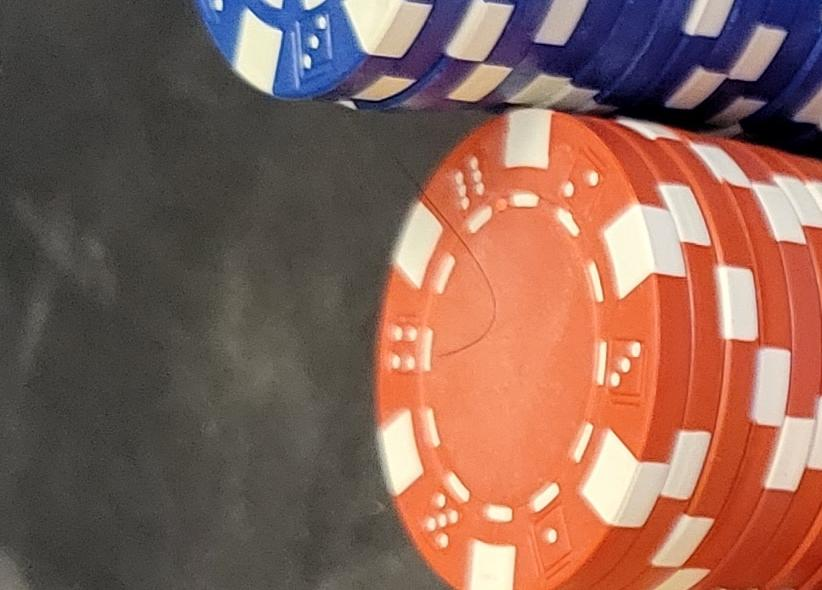Chip: (1, 299, 463, 590)
